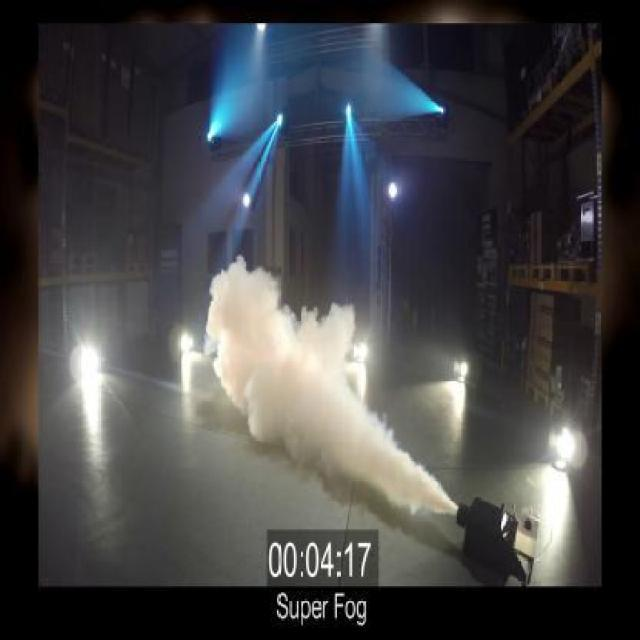fire: (200, 250, 438, 516)
